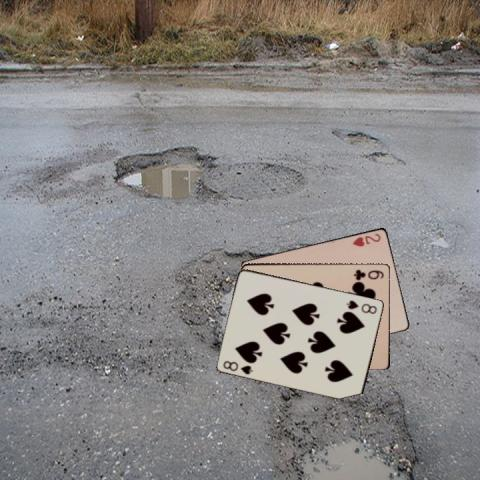2h: (350, 230, 382, 248)
6c: (352, 266, 386, 280)
8s: (343, 298, 379, 316), (220, 357, 254, 376)
